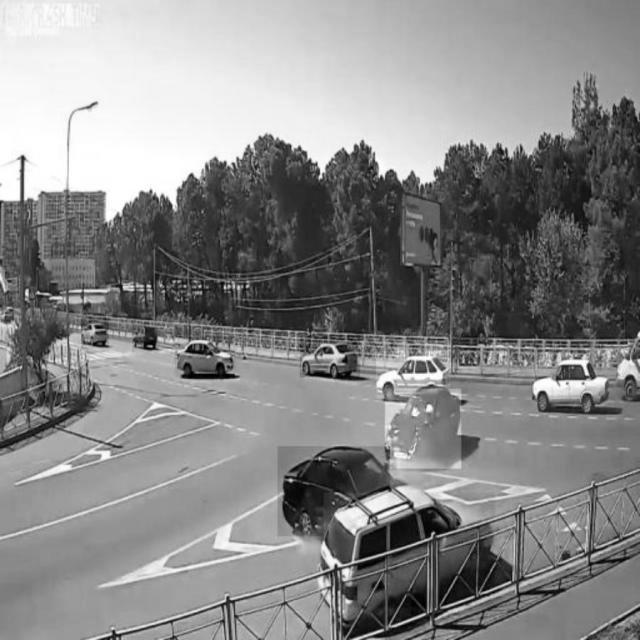vehicle: (324, 492, 494, 606), (277, 447, 389, 537), (385, 389, 461, 469), (532, 353, 610, 415), (377, 352, 450, 399), (300, 336, 360, 378), (175, 337, 235, 377), (82, 318, 109, 348), (133, 324, 159, 352)
